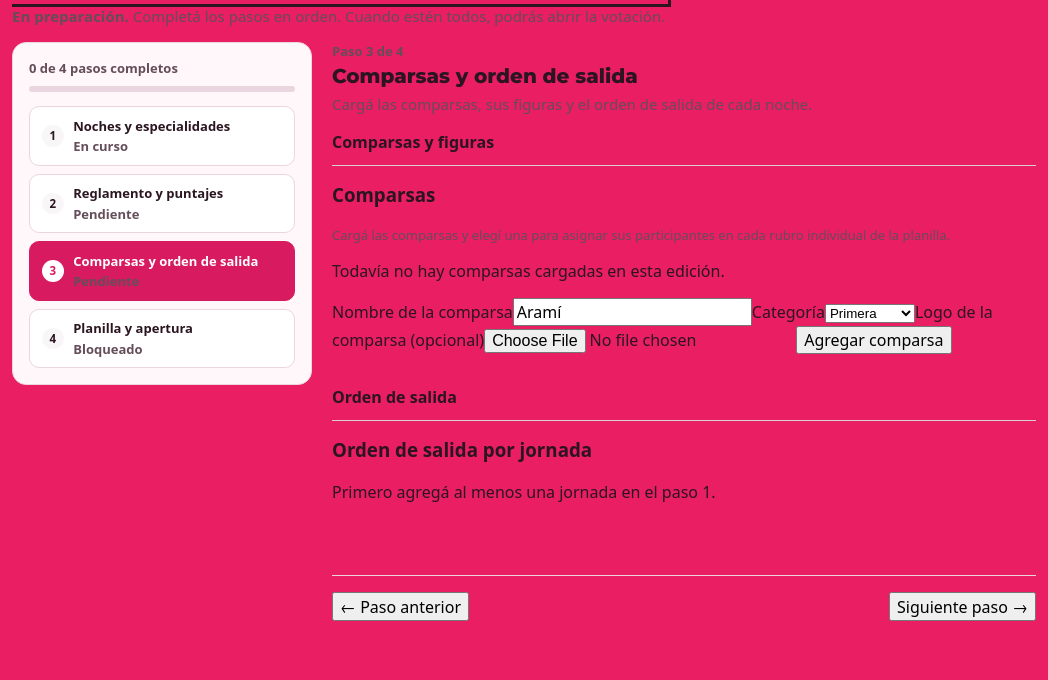
Etapa 3 (Comparsas y orden) creates a comparsa and assigns a participant directly to a PERSONA rubro
This screenshot has width=1048, height=680.
Earlier steps of the test are not shown.
Select "Primera" in the dropdown labelled "Categoría" at (870, 314), box left=825, top=304, right=915, bottom=323
Click the button "Agregar comparsa" at (874, 340), box left=796, top=326, right=952, bottom=354
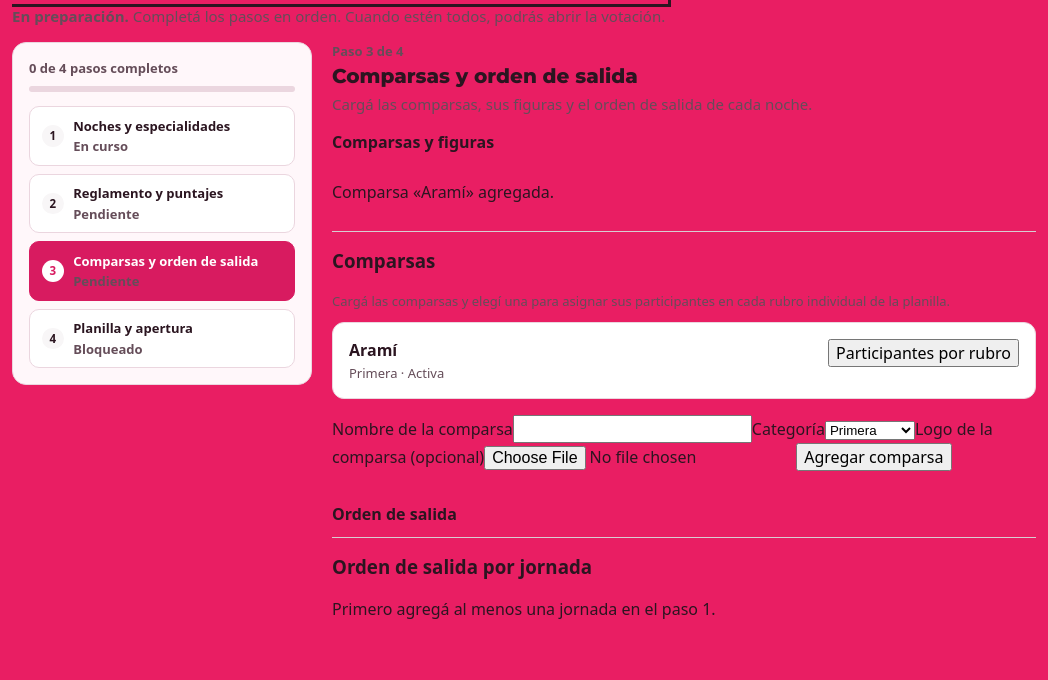
Result: the heading "Aramí" is shown at left=349, top=339, right=397, bottom=361
Click the button with aria-label "Participantes de Aramí" at (924, 353), box left=828, top=339, right=1019, bottom=367
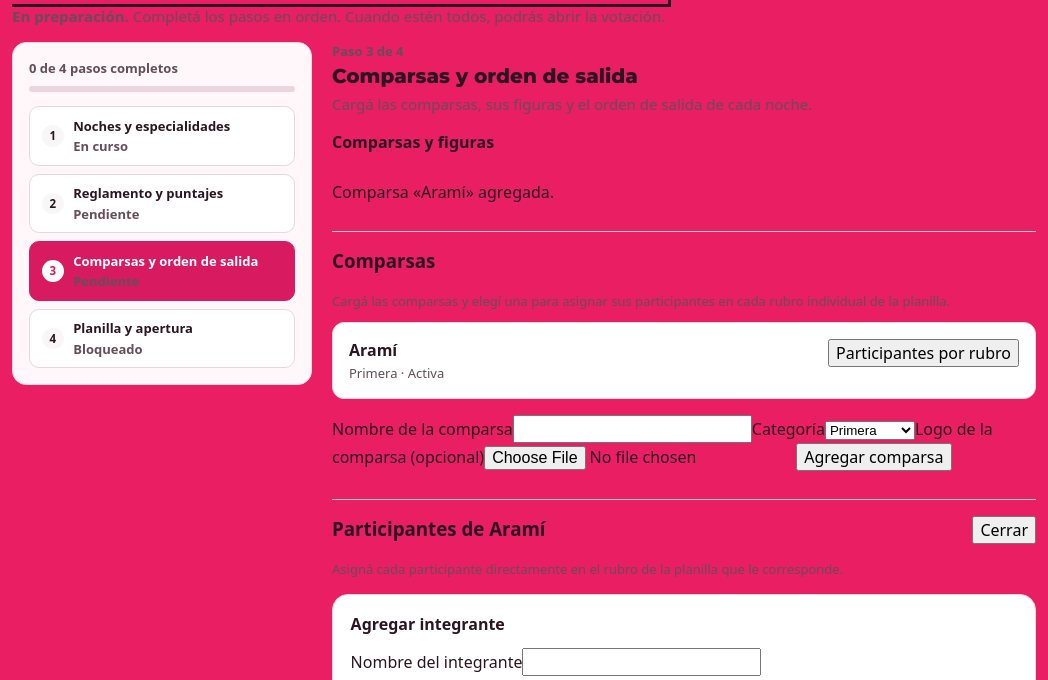
Type "Sofía Pérez" into the field labelled "Nombre del integrante" at (642, 662), box left=522, top=648, right=762, bottom=676
(page scrolled)
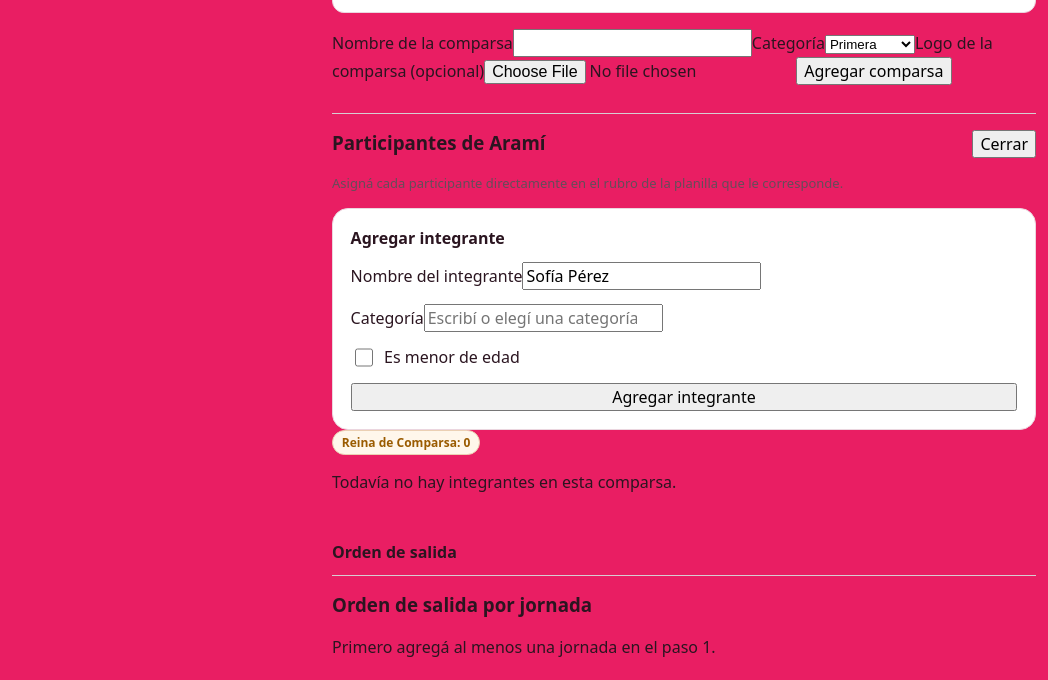
Type "Sin categoría" into the field labelled "Categoría" at (543, 318), box left=424, top=304, right=663, bottom=332
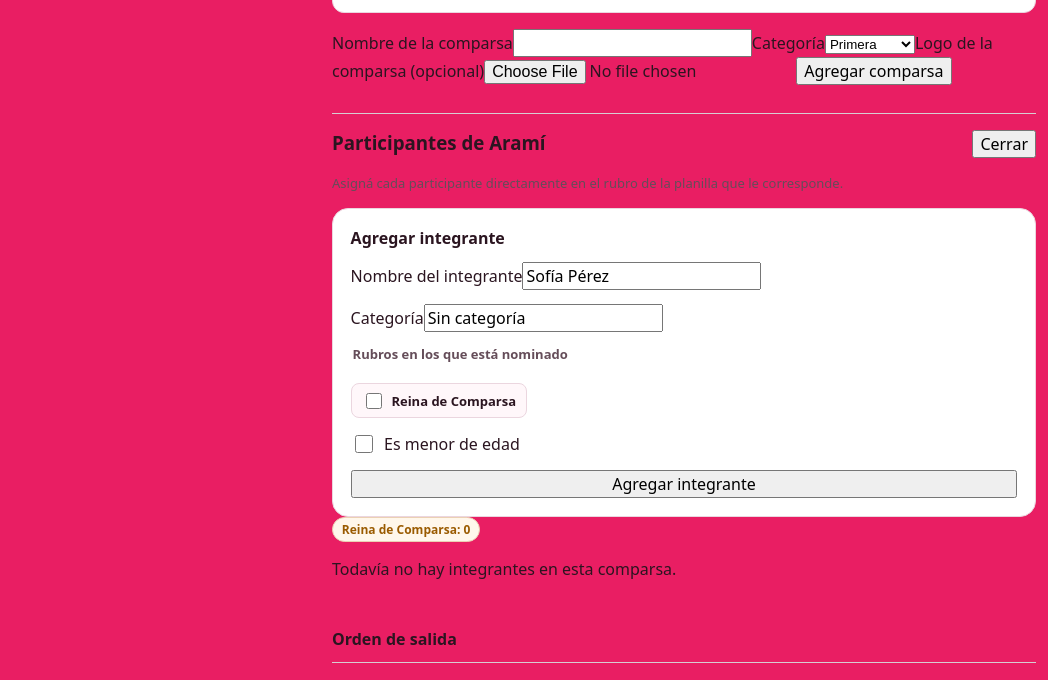
Click the checkbox labelled "Reina de Comparsa" at (374, 401), box left=366, top=393, right=382, bottom=409
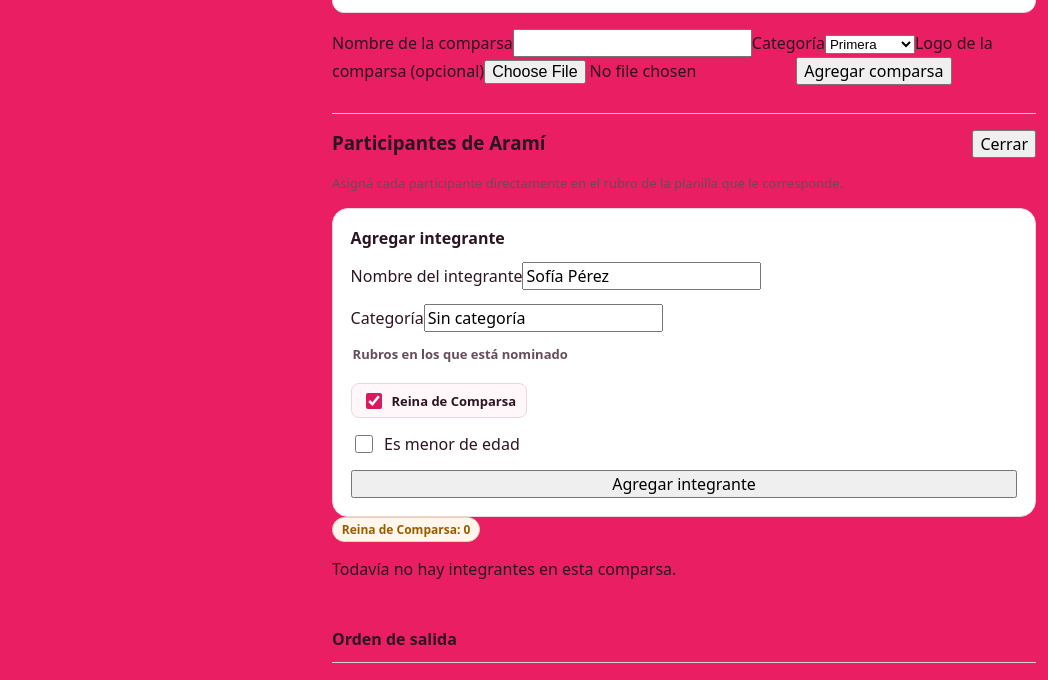
Click the button "Agregar integrante" at (684, 484), box left=351, top=470, right=1017, bottom=498
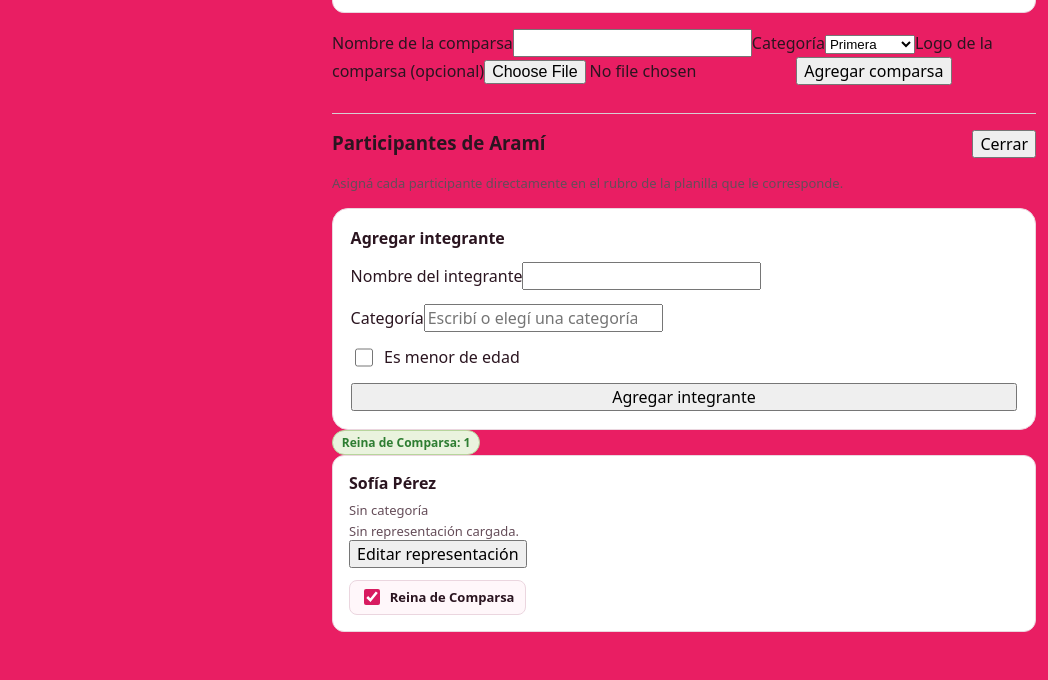
Result: the heading "Sofía Pérez" is shown at left=349, top=472, right=436, bottom=494
